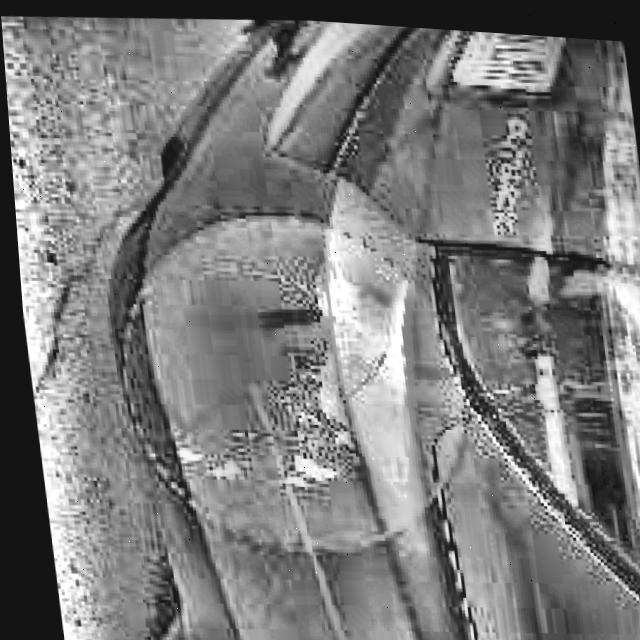bumper_dent: (237, 269, 429, 523)
